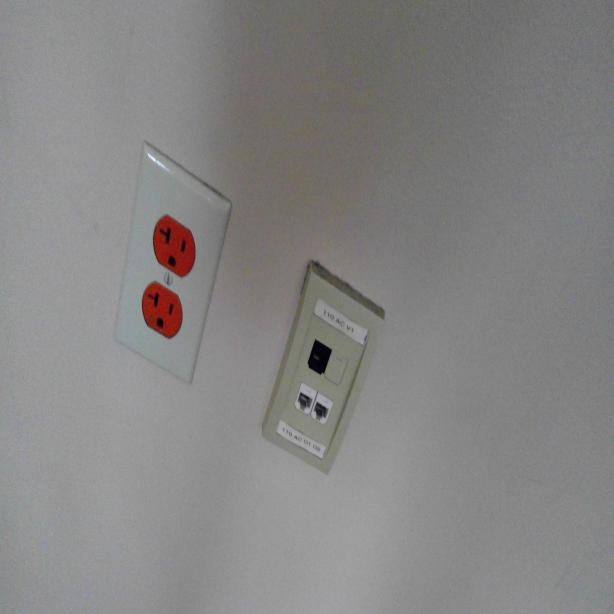typeb: (137, 280, 186, 340), (154, 214, 198, 279)
